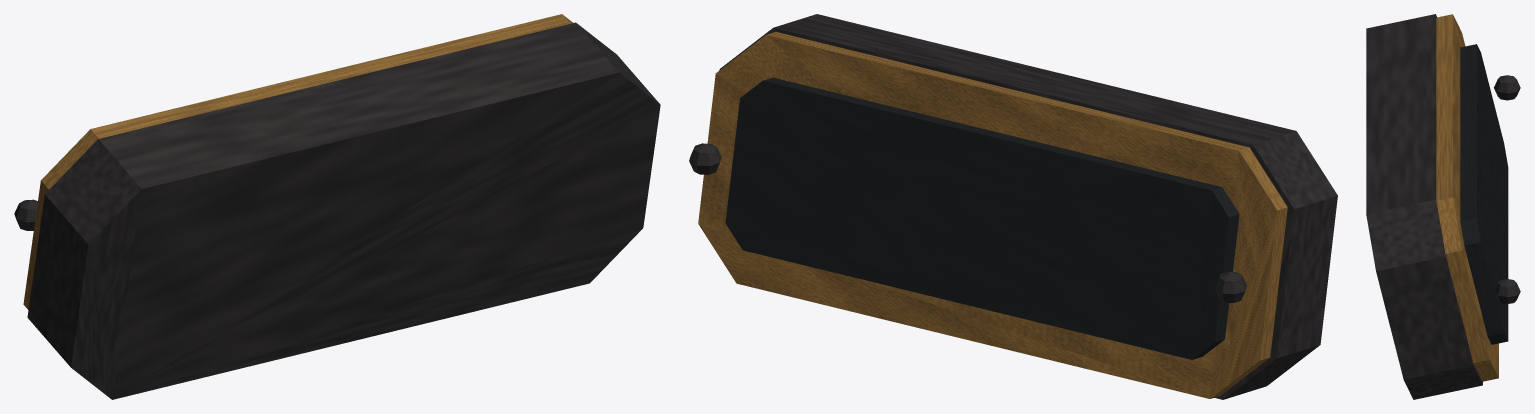
Rendered from TimerPedestal_CountdownPlate.obj.
3 renders of one model, left to right at view 1: azimuth 30°, elevation 25°; view 2: azimuth 150°, elevation 25°; view 3: azimuth 270°, elevation 25°, orthographic. The views are drawn at different scales.
Visible parts, largest first — view 1: 20_Countdown_Backing, 21_Countdown_Brass_Frame, 23_Display_Side_Rivets; view 2: 22_Countdown_Black_Glass, 21_Countdown_Brass_Frame, 20_Countdown_Backing, 23_Display_Side_Rivets; view 3: 20_Countdown_Backing, 22_Countdown_Black_Glass, 21_Countdown_Brass_Frame, 23_Display_Side_Rivets.
Boxes of the visible parts, left/top/right/bottom form: 20_Countdown_Backing: left=27, top=22, right=660, bottom=399; 21_Countdown_Brass_Frame: left=23, top=14, right=572, bottom=309; 23_Display_Side_Rivets: left=14, top=199, right=37, bottom=230; 22_Countdown_Black_Glass: left=725, top=77, right=1239, bottom=359; 21_Countdown_Brass_Frame: left=698, top=32, right=1287, bottom=398; 20_Countdown_Backing: left=719, top=14, right=1337, bottom=399; 23_Display_Side_Rivets: left=689, top=143, right=1246, bottom=302; 20_Countdown_Backing: left=1366, top=14, right=1482, bottom=399; 22_Countdown_Black_Glass: left=1460, top=44, right=1508, bottom=344; 21_Countdown_Brass_Frame: left=1436, top=14, right=1498, bottom=381; 23_Display_Side_Rivets: left=1494, top=75, right=1520, bottom=304.
Bounding box in the file's own units: 0.665 × 0.2799 × 0.1949.
Materials: 3 (3 with a texture image).
